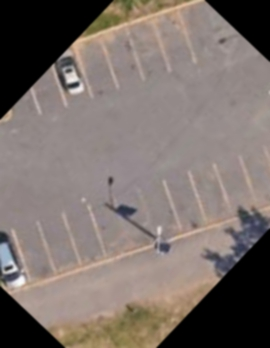parkingspot: (0, 137, 270, 296), (8, 2, 202, 132)
